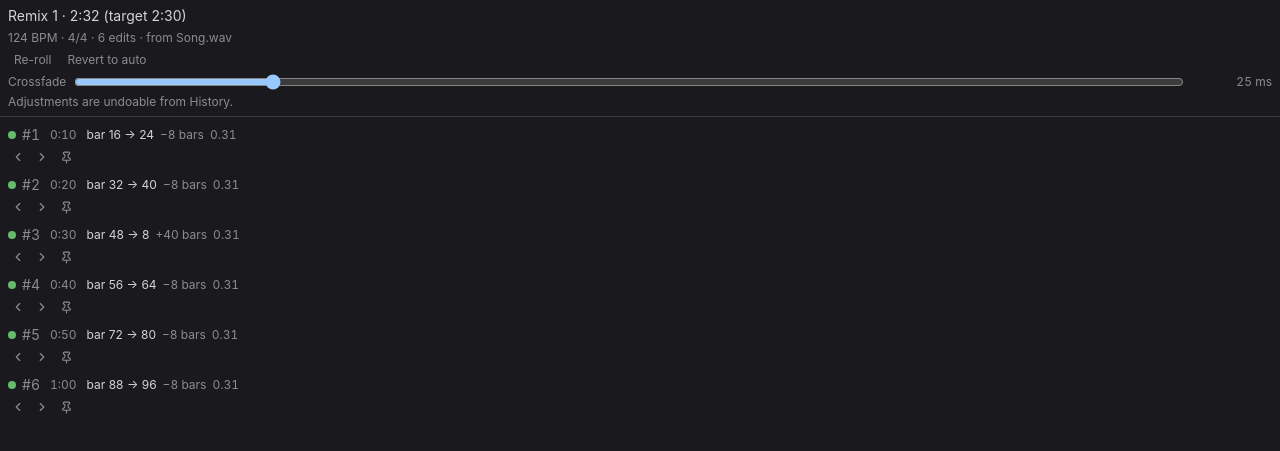
Scenario: RemixPanel — pin (acceptance 8) › surfaces a limit-reached refusal from the service rather than failing silently
The width and height of the screenshot is (1280, 451).
Step 1. Click the button named "pin edit 1" → (66, 157), box [56,147,76,167]
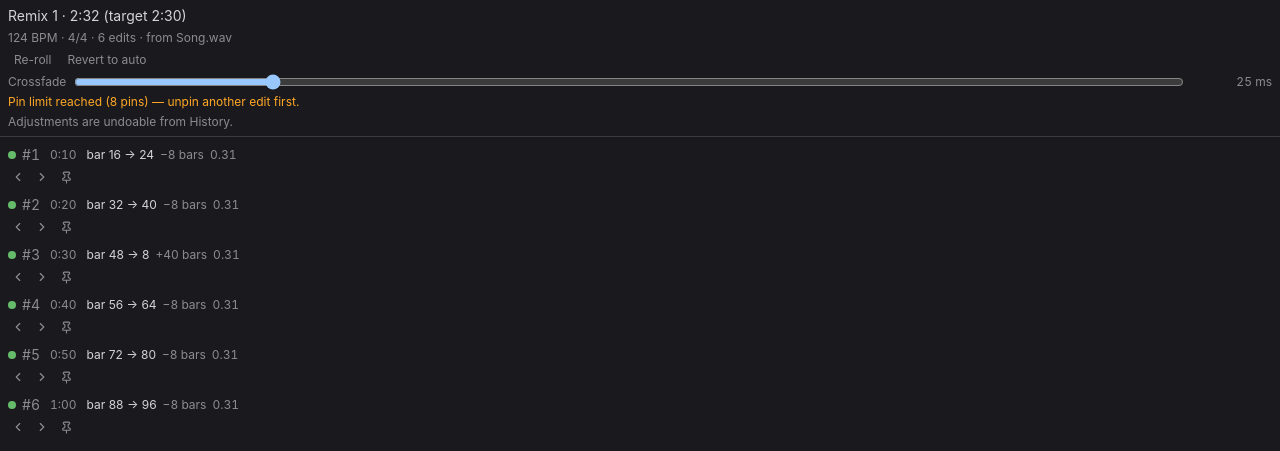
Check: the text with test id "remix-lock-note" shows "8", box [8,94,299,109]
